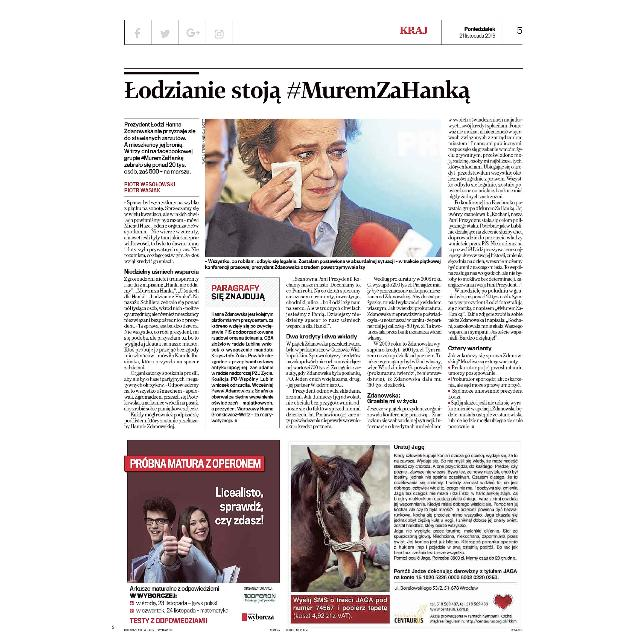article: (123, 70, 527, 433)
